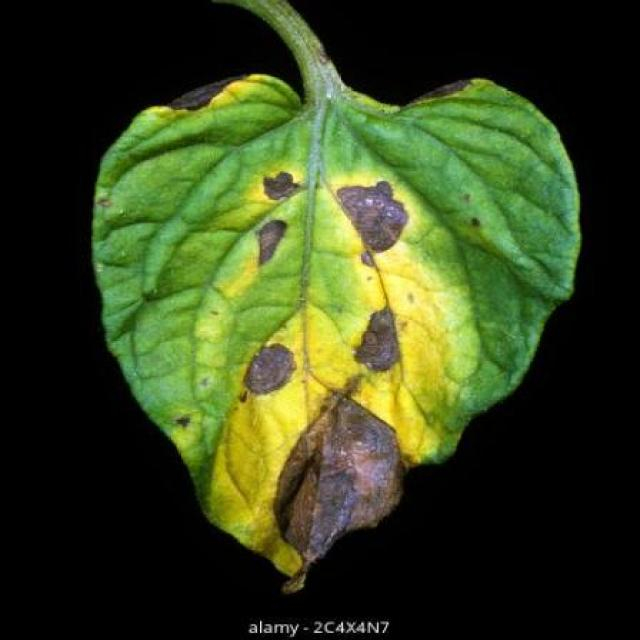Early Blight: (91, 71, 584, 593)
